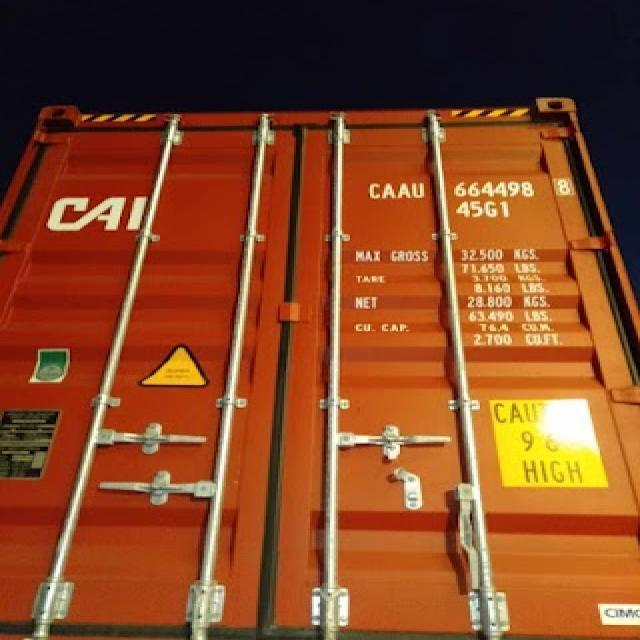ISO: (457, 200, 512, 220)
container_number: (361, 175, 574, 201)
